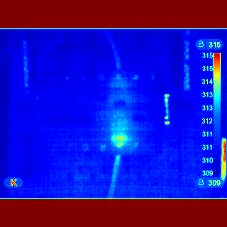High: (108, 123, 146, 153)
Less: (108, 120, 140, 152)
